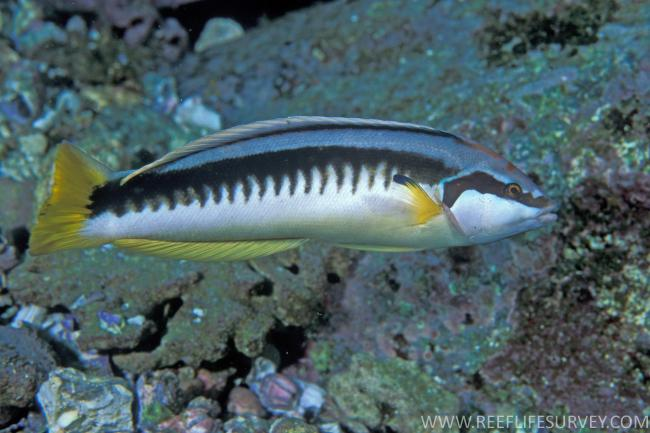fish: (28, 115, 560, 262)
